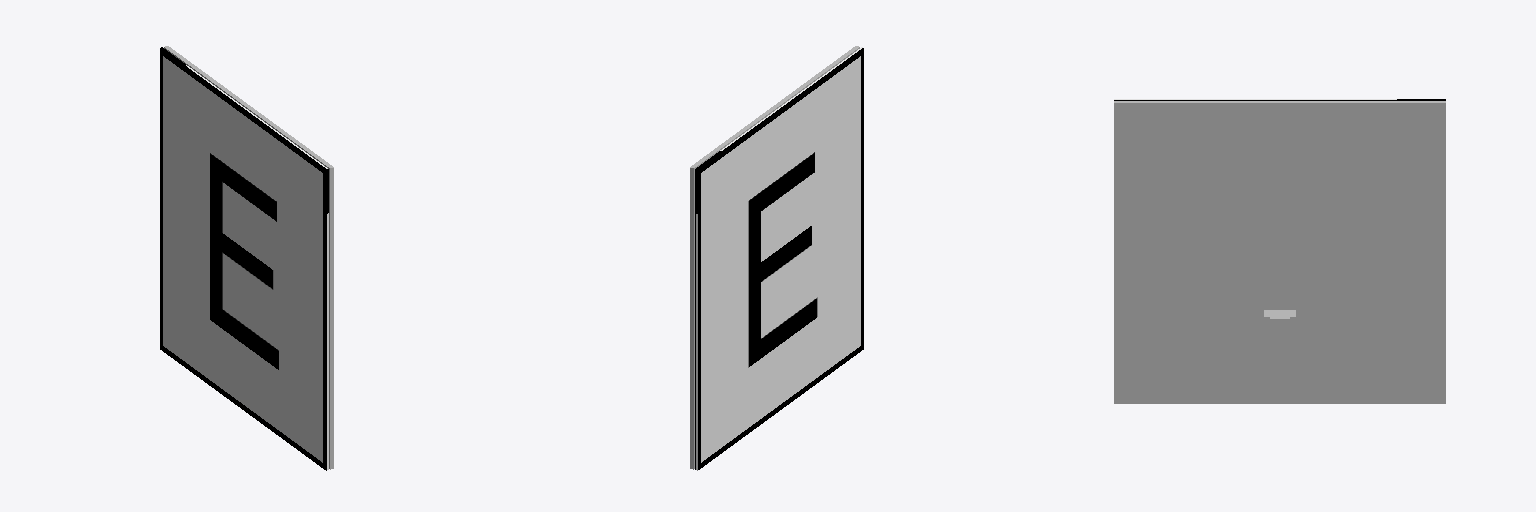
The picture shows the model from 3 angles: view 1: azimuth 30°, elevation 25°; view 2: azimuth 150°, elevation 25°; view 3: azimuth 270°, elevation 25°; orthographic projection.
Parts seen in each view (by area): view 1: cube; view 2: cube; view 3: cube.
Boxes of the visible parts, x1,y1,x2,y2 form: cube: [160, 46, 333, 470]; cube: [690, 46, 863, 470]; cube: [1114, 99, 1445, 403].
Bounding box in the file's own units: 0.0922 × 1 × 1.
Materials: 2 (1 with a texture image).